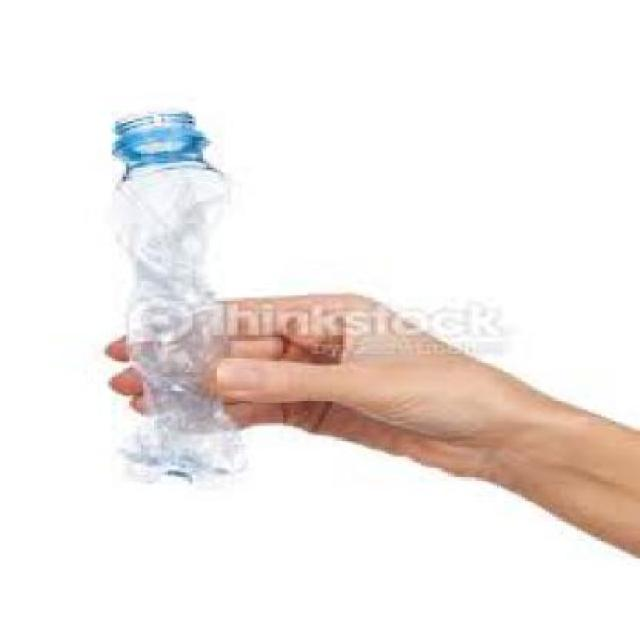PLASTIC: (108, 104, 255, 482)
